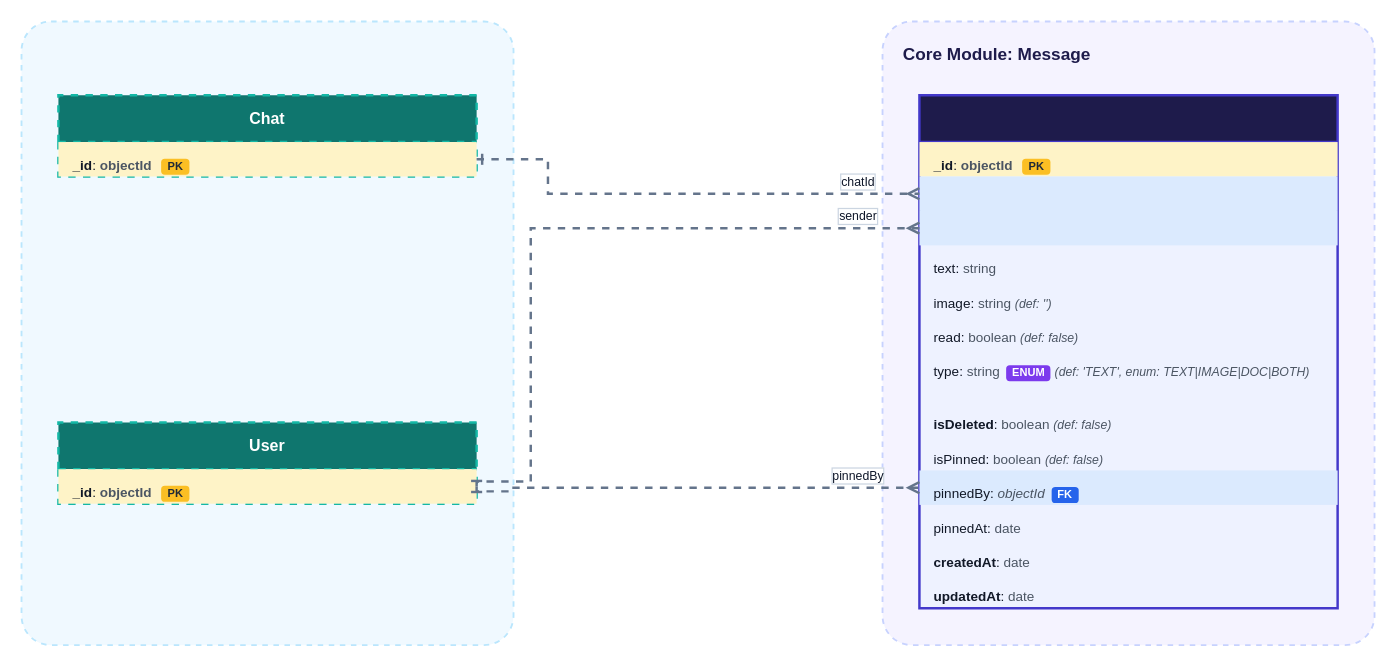
This 1397x668 diagram has some shape labels left out. The box of each missing label's shape, as (x1, y1, x2, y2) in pixels:
chatId : objectId FK: (919, 176, 1337, 210)
Message: (918, 93, 1338, 609)
Parent Lookups / External Dependencies: (20, 20, 514, 646)
sender : objectId FK: (919, 210, 1337, 245)
